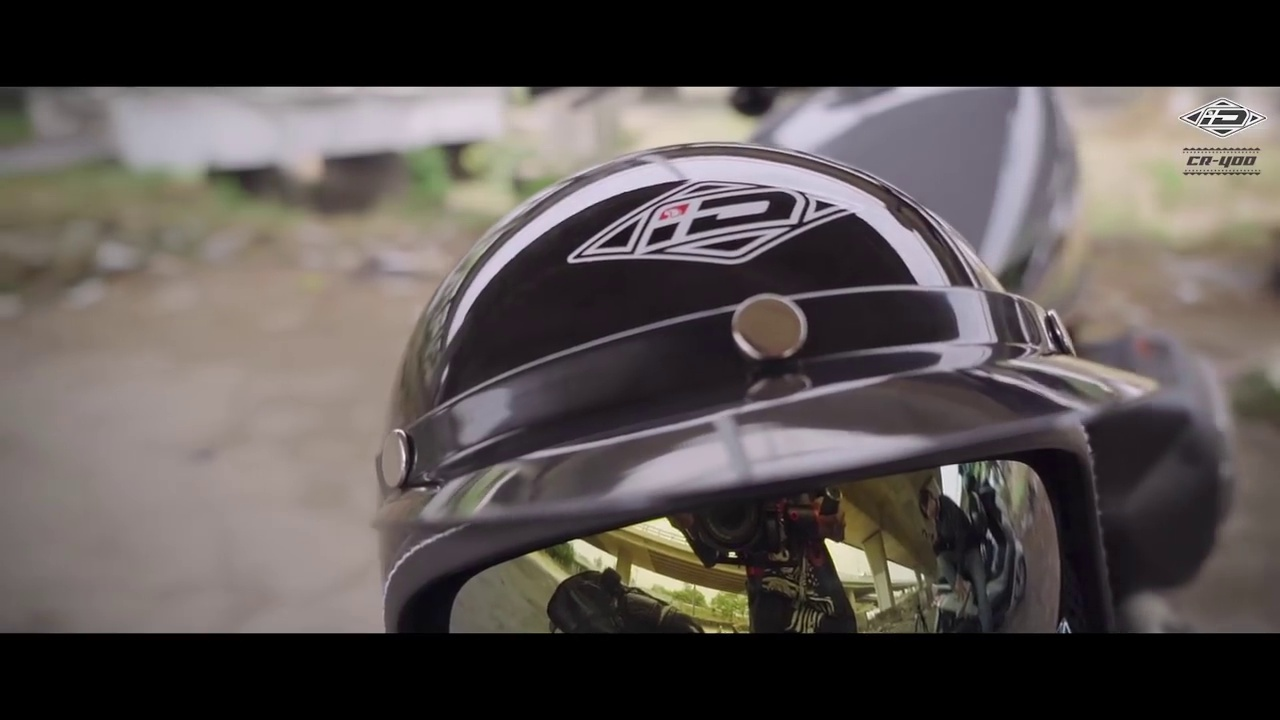helmet: (345, 128, 1120, 628)
